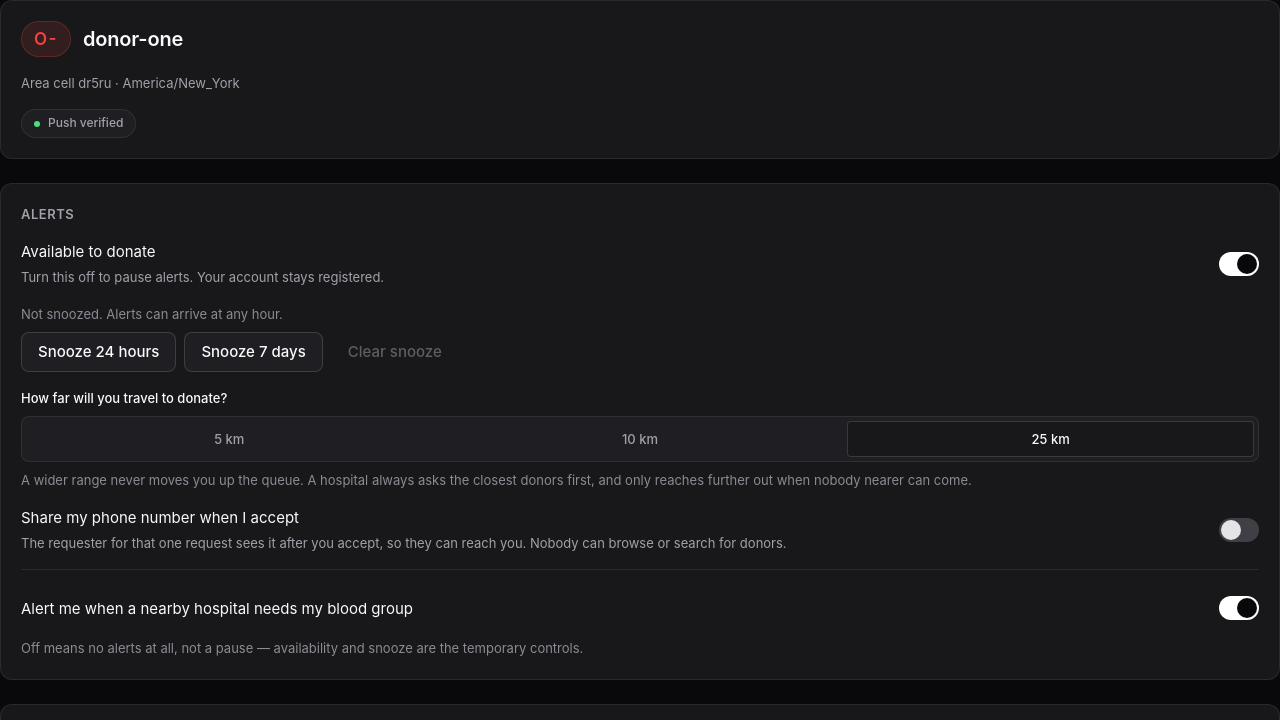
Scenario: DonorHome › reports a save failure without flipping the toggle
Click the switch named "available to donate" in the row of "Available to donate".
click(1239, 264)  # box [1219, 252, 1259, 276]
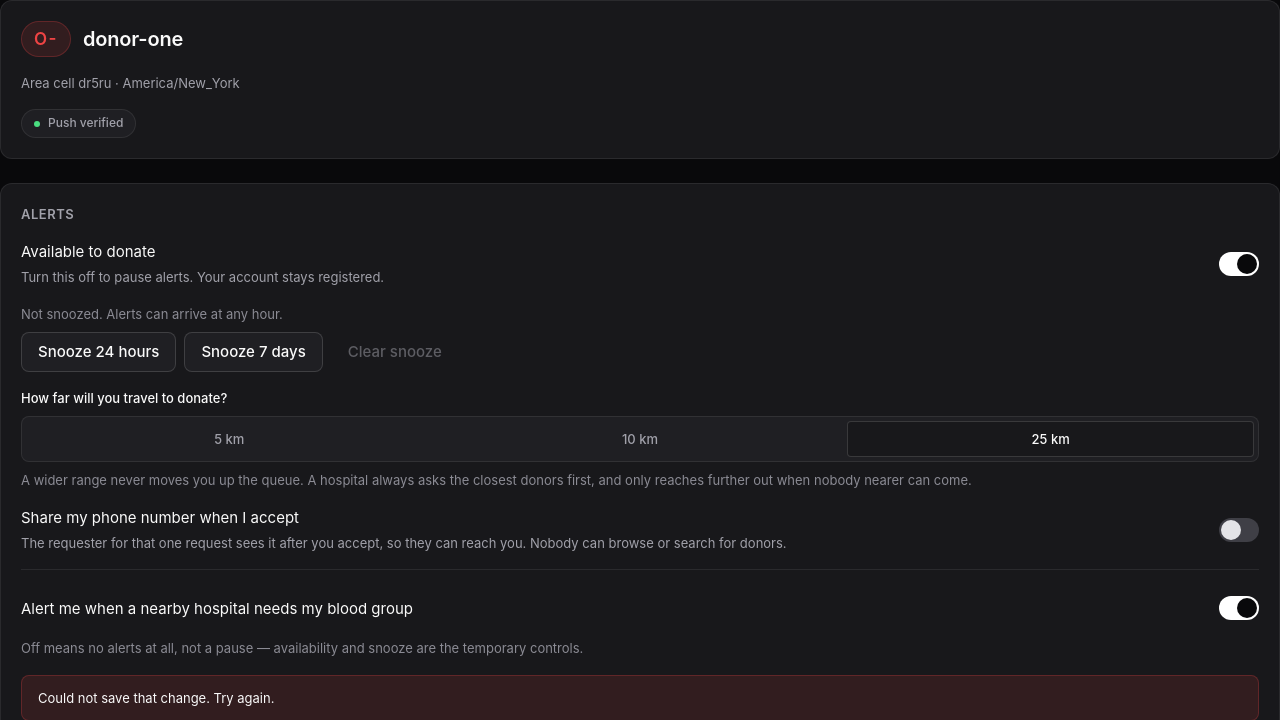
Result: the text "Could not save that change. Try again." is shown at [21, 675, 1259, 719]
